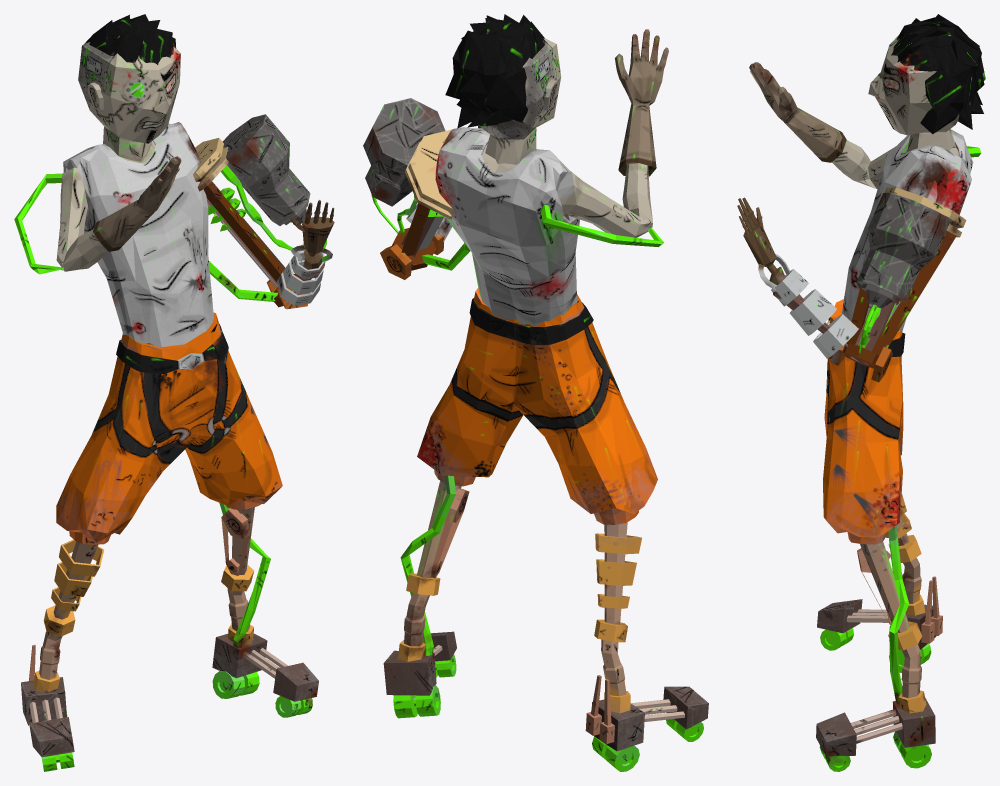
File: CyborgFINALAnimation_000022.obj
3 views of the same model, side by side, from view 1: azimuth 30°, elevation 25°; view 2: azimuth 150°, elevation 25°; view 3: azimuth 270°, elevation 25° (orthographic). The views are drawn at different scales.
Parts seen in each view (by area): view 1: CyborgMesh_Cube.002; view 2: CyborgMesh_Cube.002; view 3: CyborgMesh_Cube.002.
Part boxes in pixels (box(x1,y1,x2,y2)): CyborgMesh_Cube.002: box(14, 14, 334, 771); CyborgMesh_Cube.002: box(363, 14, 708, 771); CyborgMesh_Cube.002: box(737, 14, 985, 771).
Size of the model in its own units: 4.36 by 9.53 by 3.09.
